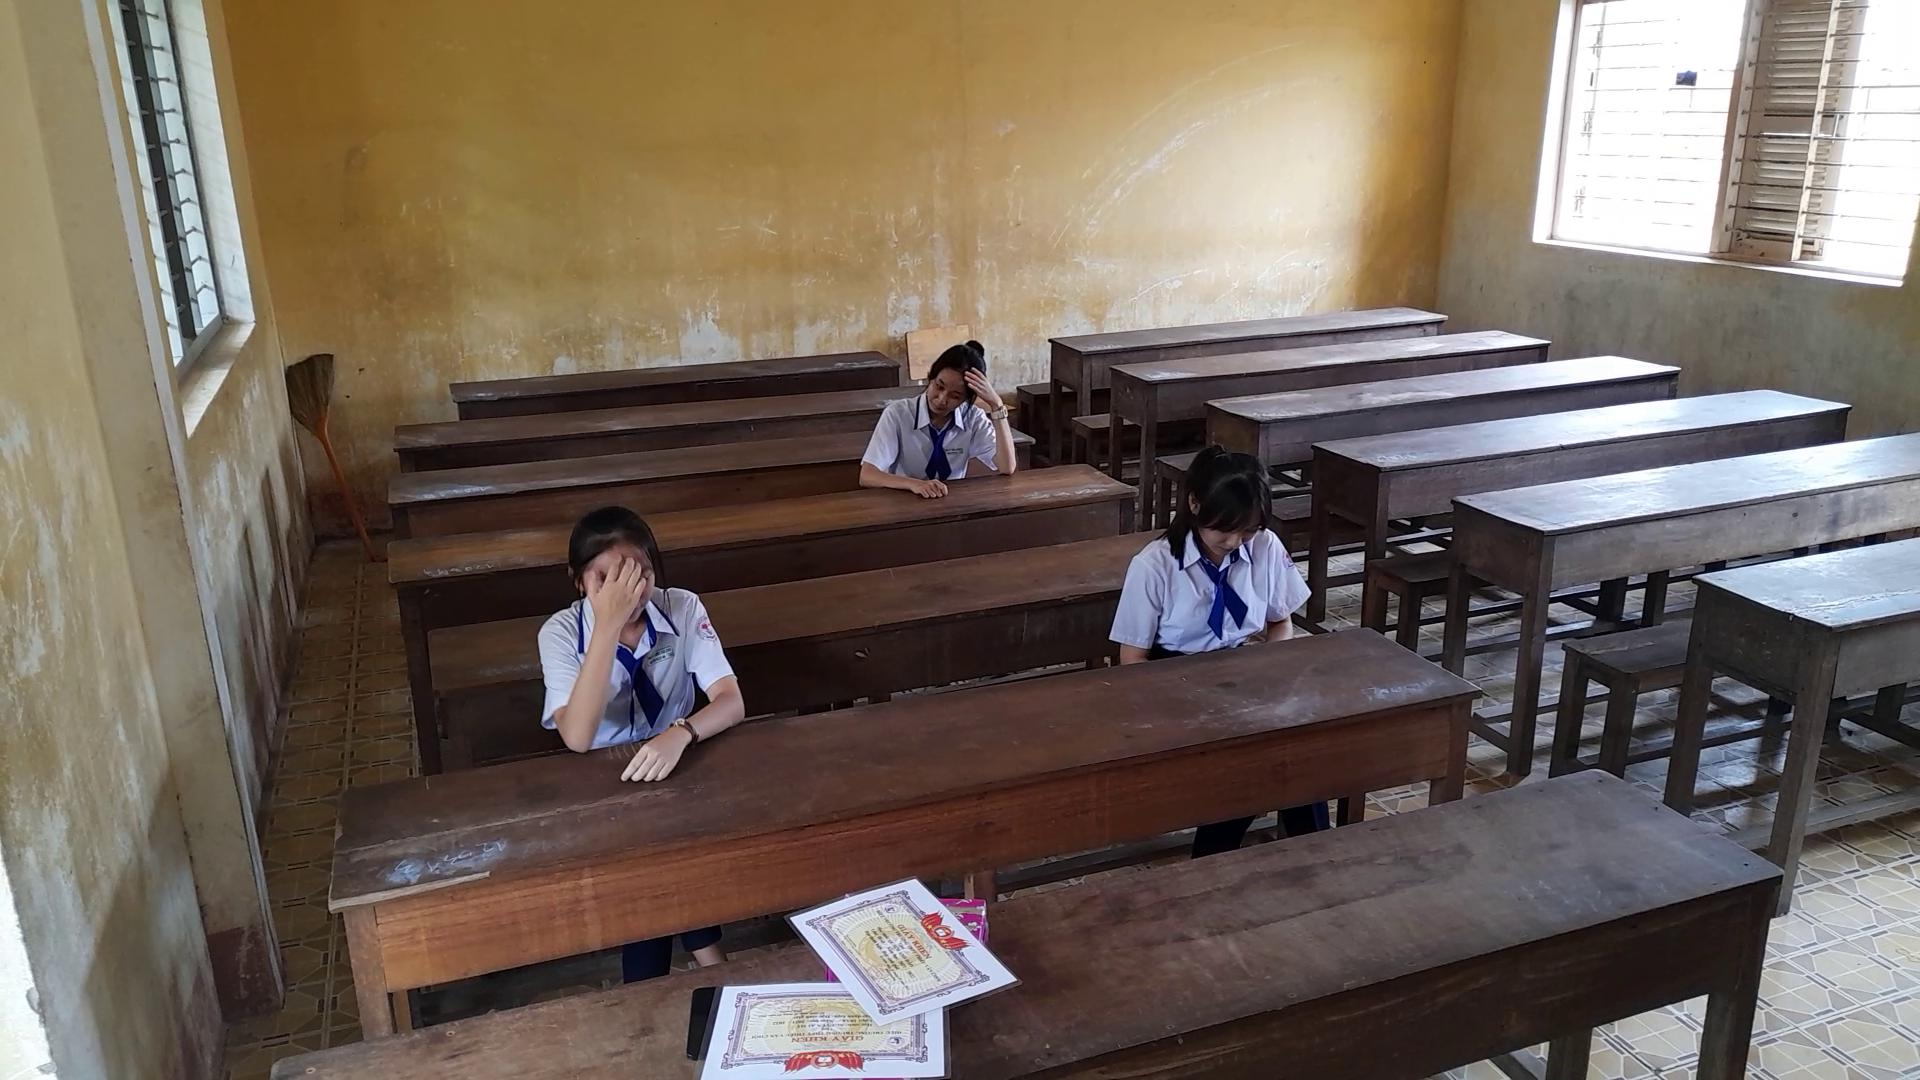Bend Over The Desk: (1156, 431, 1280, 563)
Hand Under Table: (1109, 527, 1160, 673), (1257, 533, 1299, 655)
Wave: (526, 547, 647, 758), (952, 365, 1021, 475)
